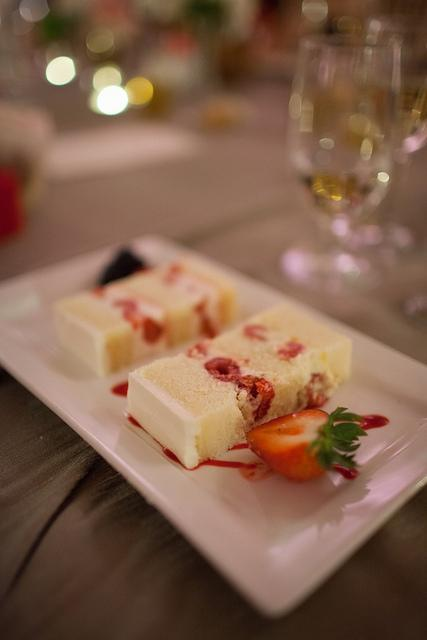raspberry: (237, 374, 276, 422), (113, 298, 145, 330), (204, 357, 241, 383), (303, 374, 328, 409), (242, 323, 269, 342), (144, 318, 163, 343), (276, 342, 304, 357), (192, 298, 209, 318), (200, 317, 216, 338), (166, 266, 182, 285), (188, 344, 207, 358), (91, 286, 106, 298)
